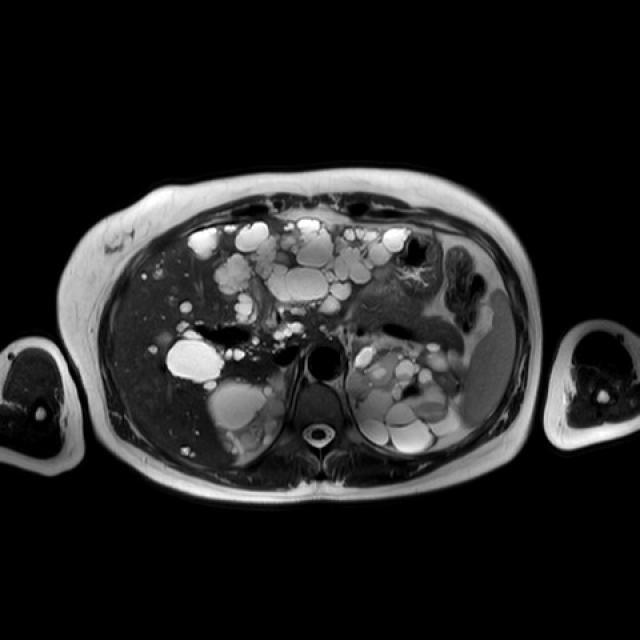sag: (212, 383, 286, 454)
sol: (348, 342, 468, 455)
